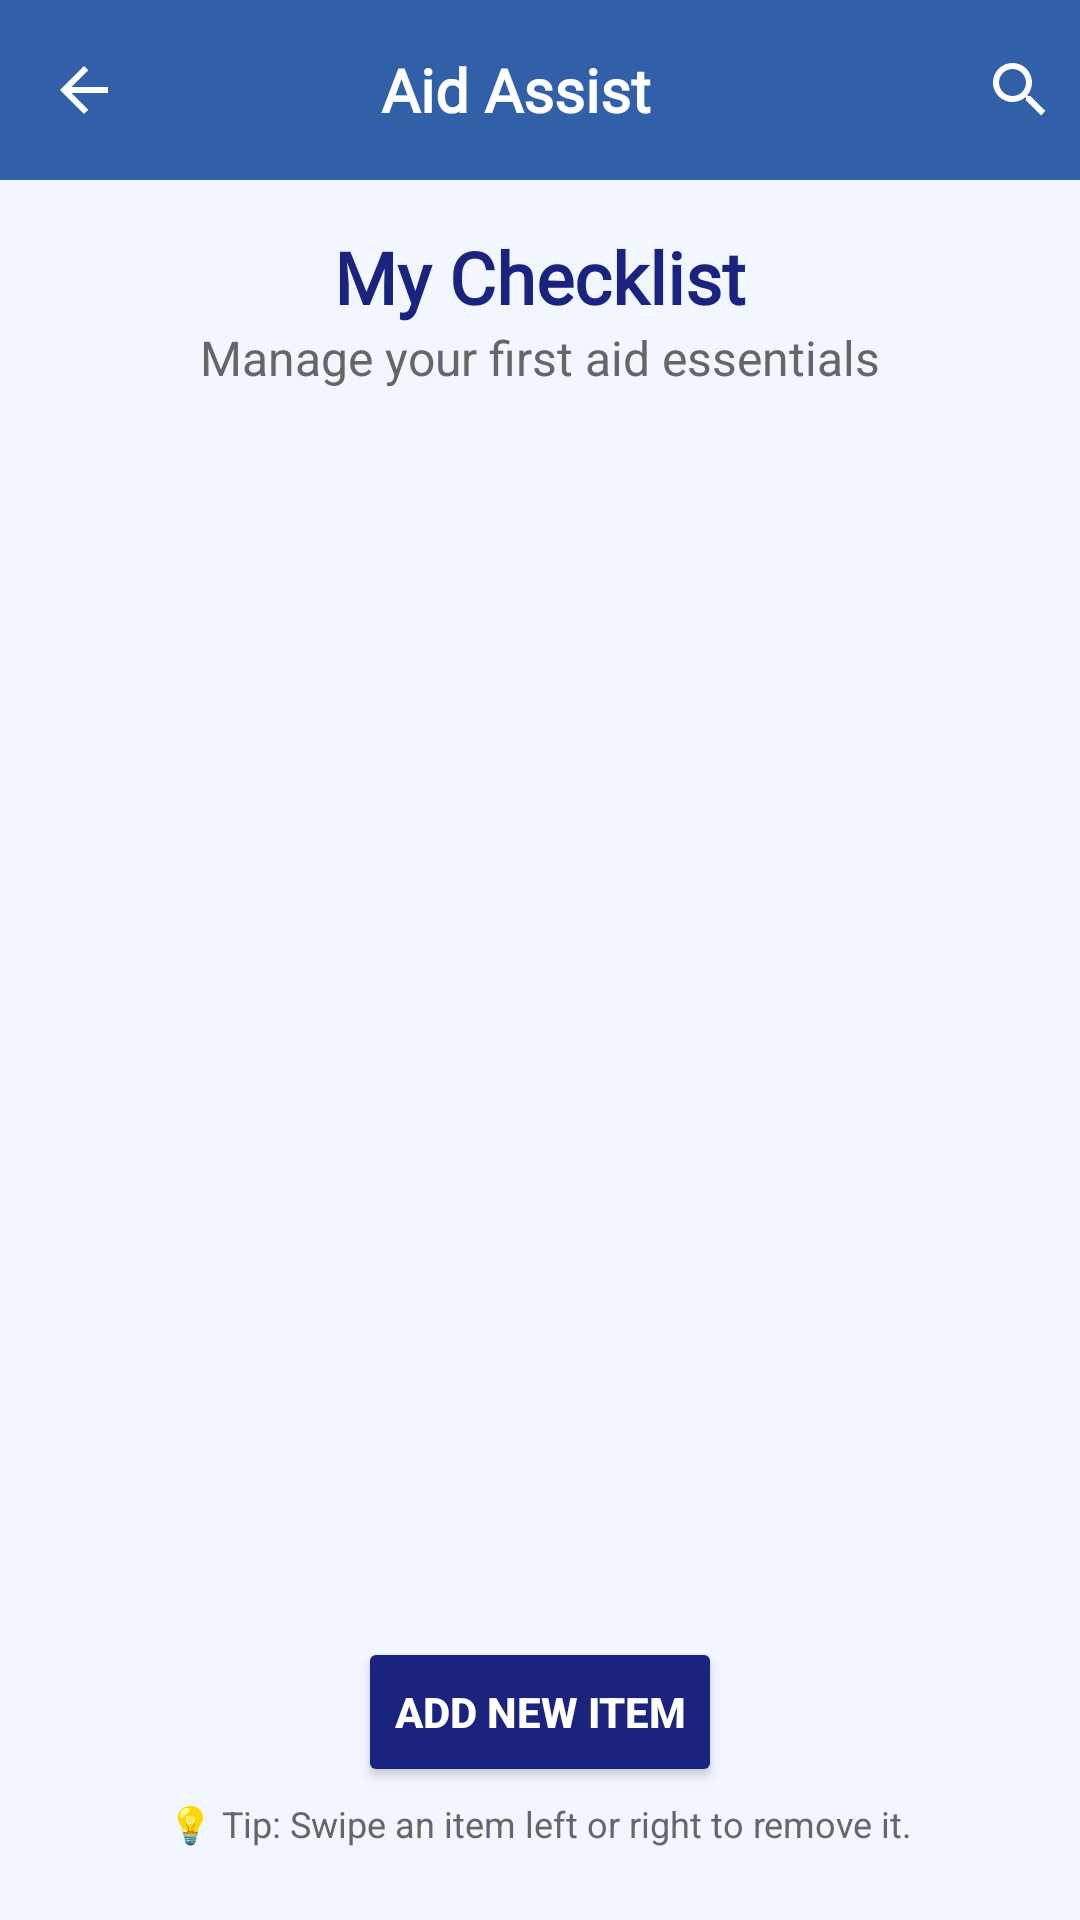

Icons on this 1080*1920 Android screen, each with its box as {"x1": x1, "y1": y1, "x2": x2, "y2": y2}:
Back: {"x1": 60, "y1": 66, "x2": 108, "y2": 114}
Toggle Search: {"x1": 993, "y1": 63, "x2": 1045, "y2": 115}
